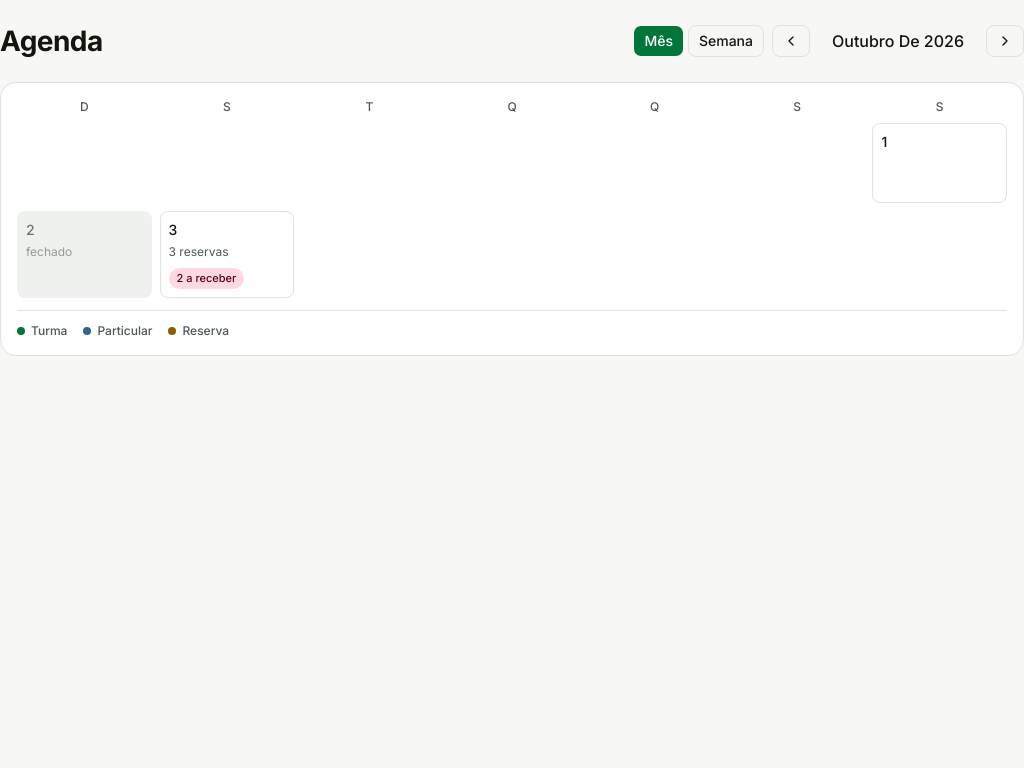
Scenario: AgendaView (SPEC-012) › AC-007: linha de turma não mostra nenhuma ação
Click the text "3 reservas".
click(199, 252)  # box [169,244,228,260]
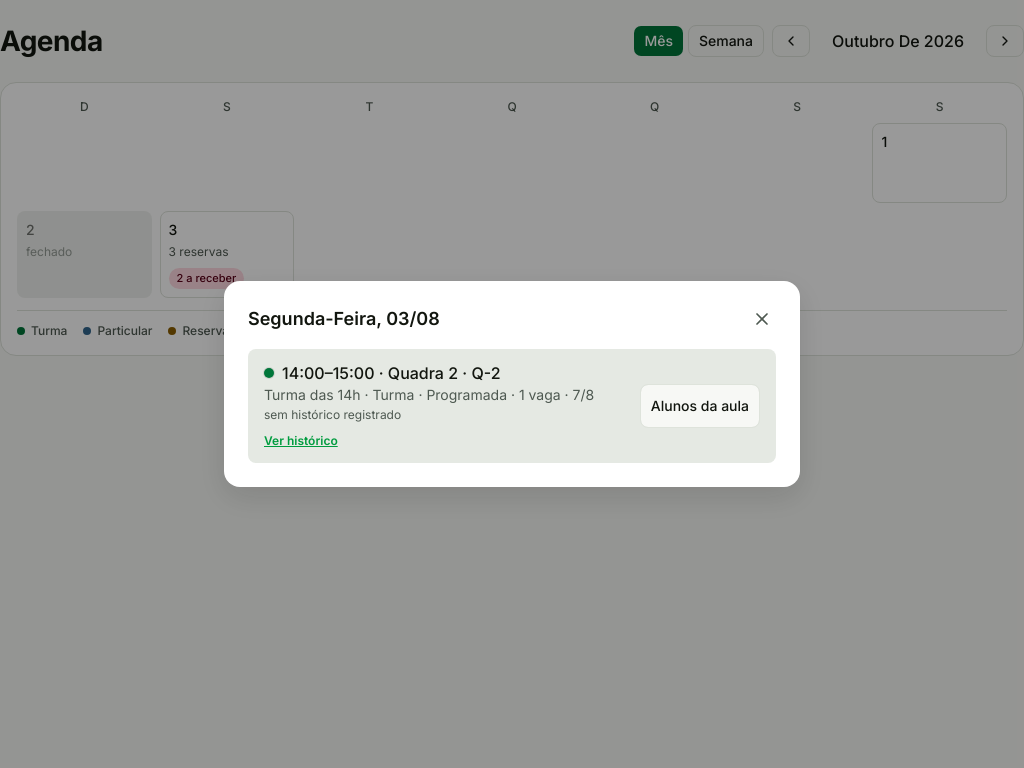
Expected: the text "14:00–15:00 · Quadra 2 · Q-2" is shown, [282,361,500,385]
Expected: the button "Alunos da aula" is shown, [640,384,760,428]
Expected: the text "Turma das 14h · Turma · Programada · 1 vaga · 7/8" is shown, [264,385,594,405]
